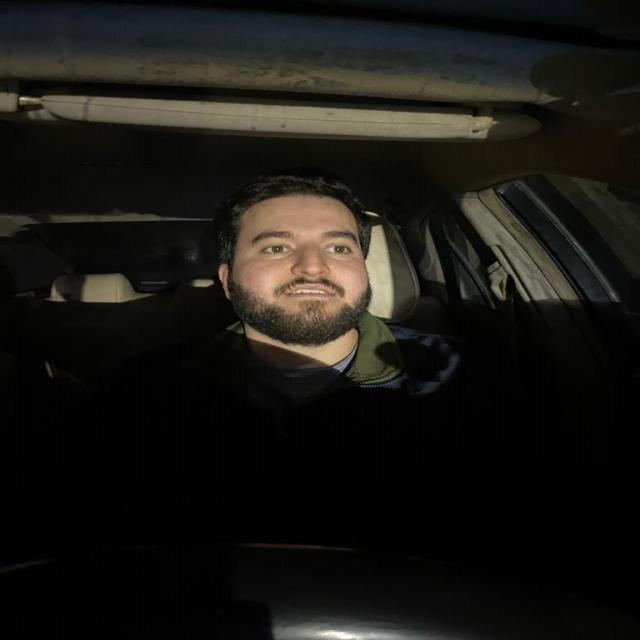person: (217, 164, 396, 355)
